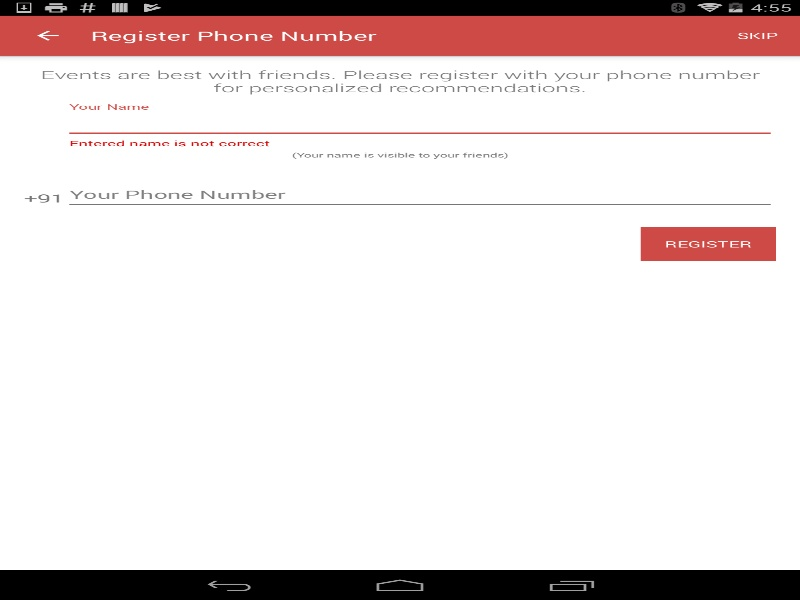Button: (10, 15, 85, 55)
Input: (64, 109, 776, 138), (64, 181, 776, 209)
